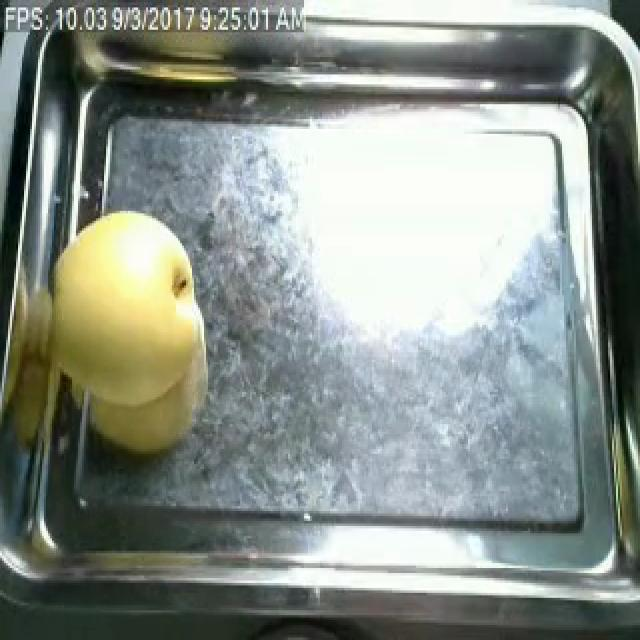Fruit: (30, 199, 220, 424)
